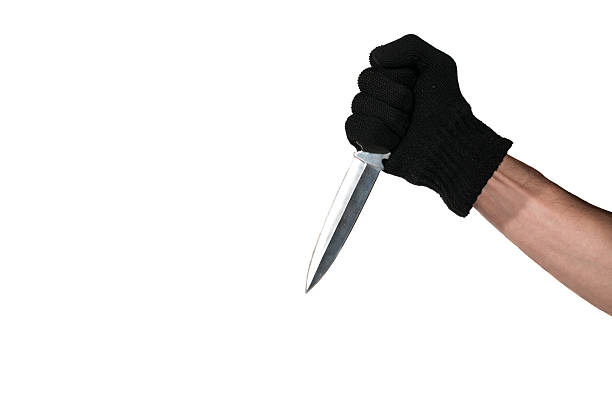knife: (302, 155, 384, 295)
